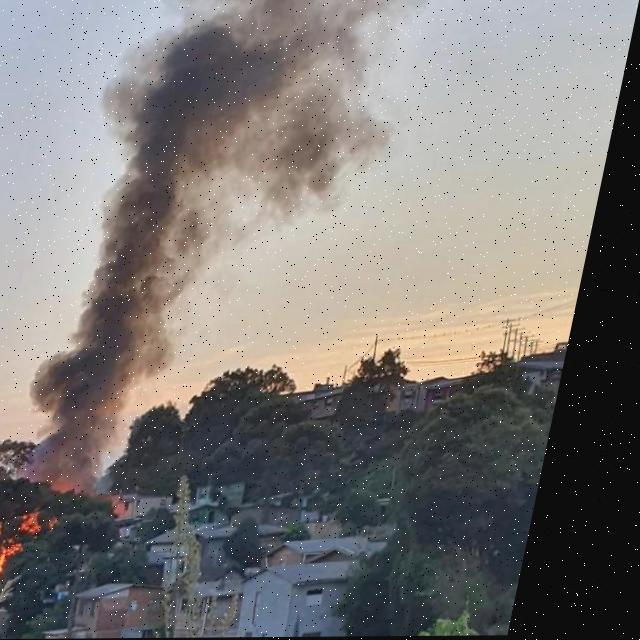Fire: (0, 514, 67, 584)
